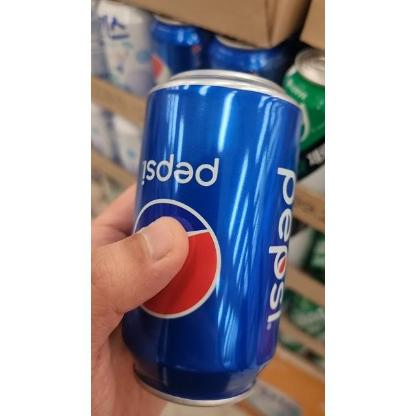Can: (118, 71, 302, 408)
